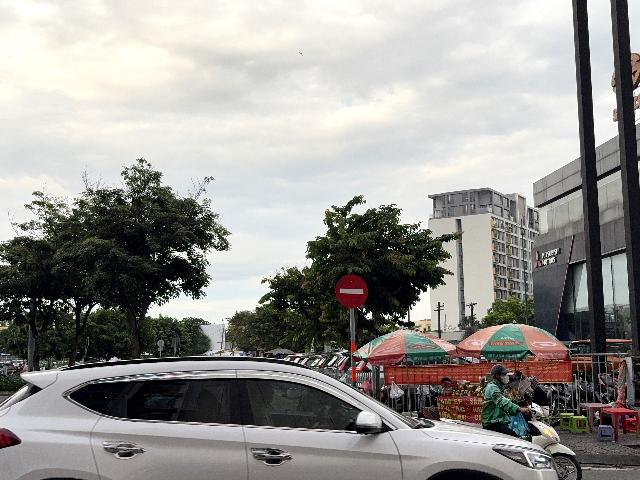cam-di-nguoc-chieu: (336, 274, 368, 309)
